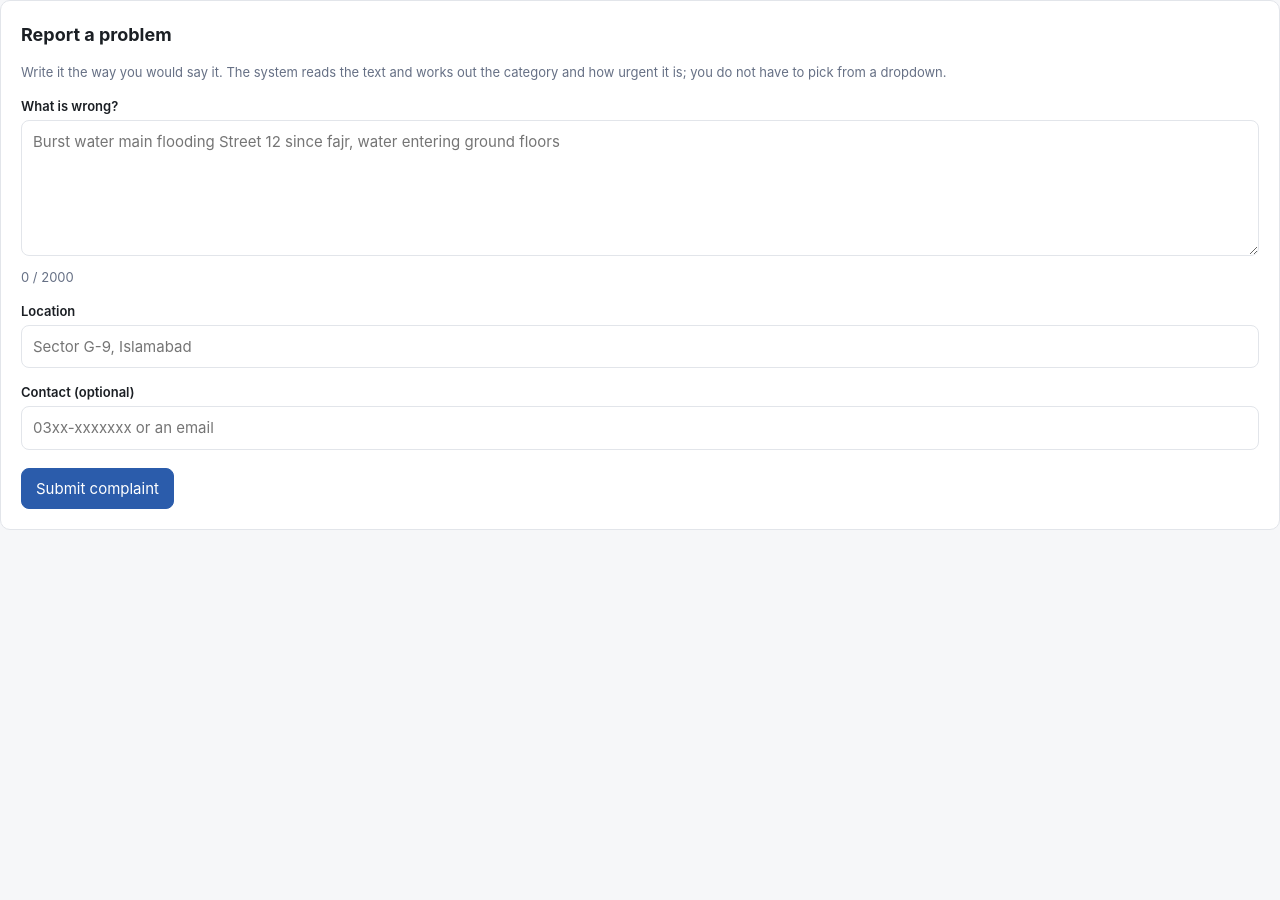
Scenario: SubmitView › surfaces the field-level errors from a 400 body one by one
Step 1. Type "Sewage backing up into the lane again" into the text box labelled "What is wrong?" → point(640, 188), box 21,120 -> 1259,256
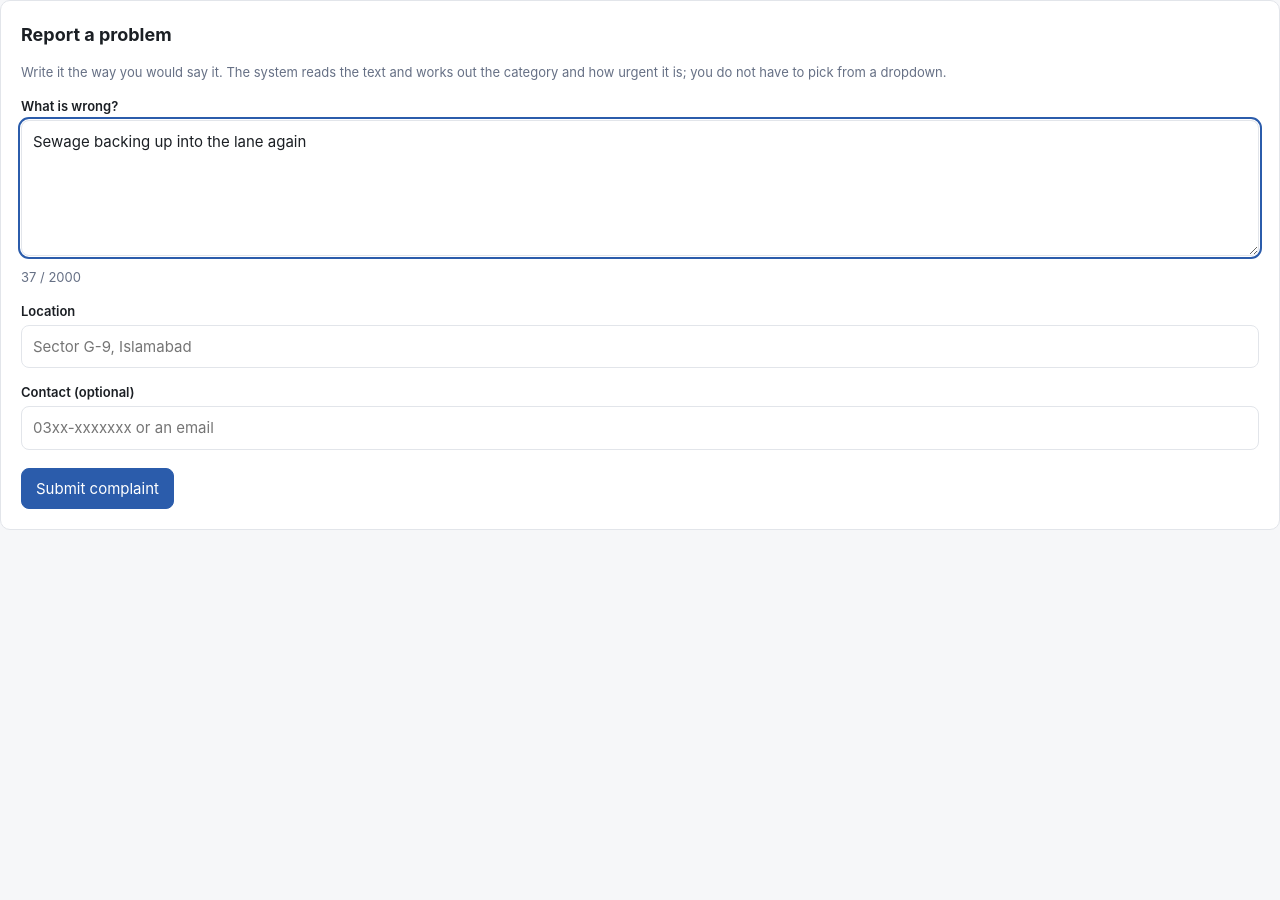
Step 2. Type "G-9" into the field labelled "Location" → point(640, 347), box 21,325 -> 1259,368
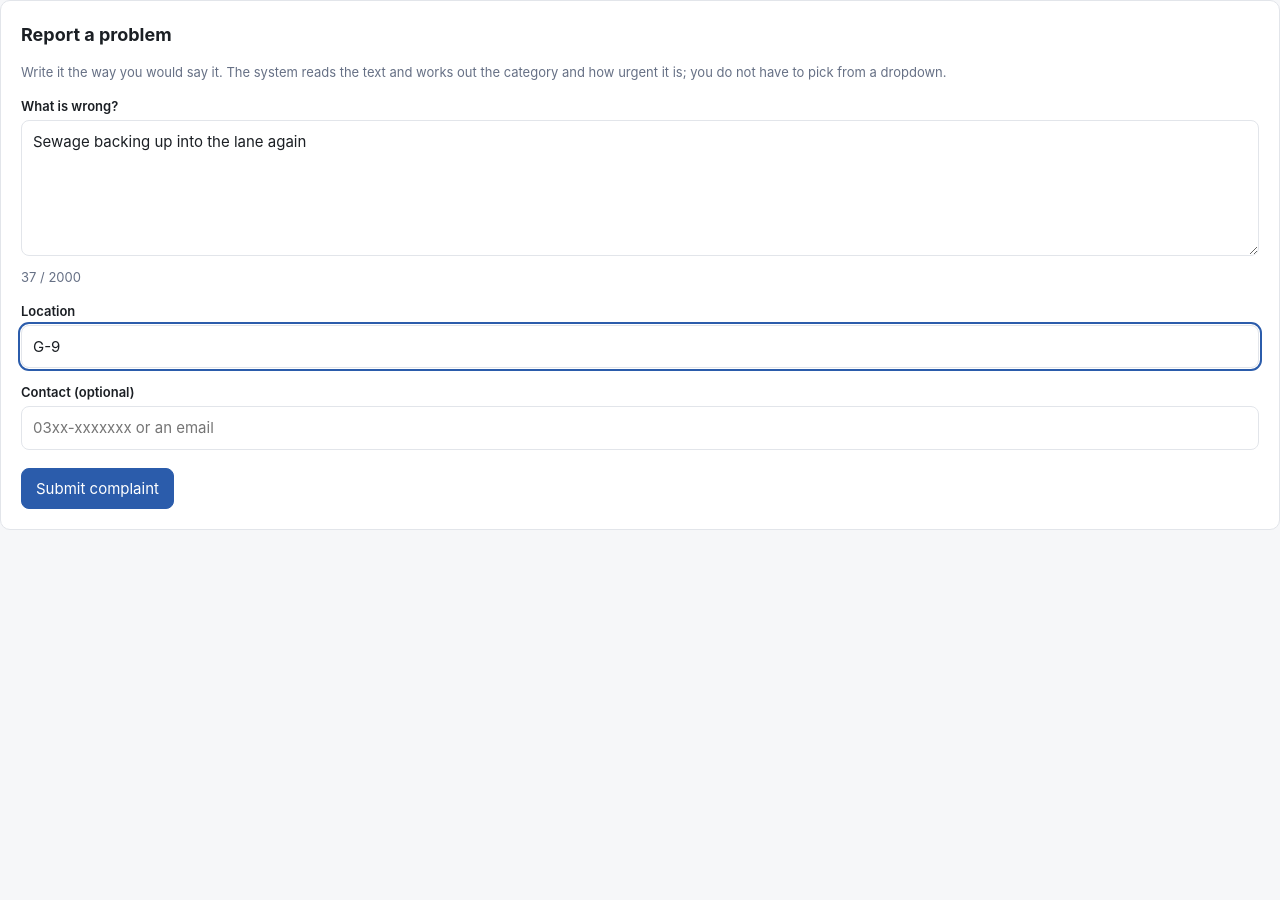
Step 3. Click the button "Submit complaint" → point(97, 488), box 21,468 -> 174,509
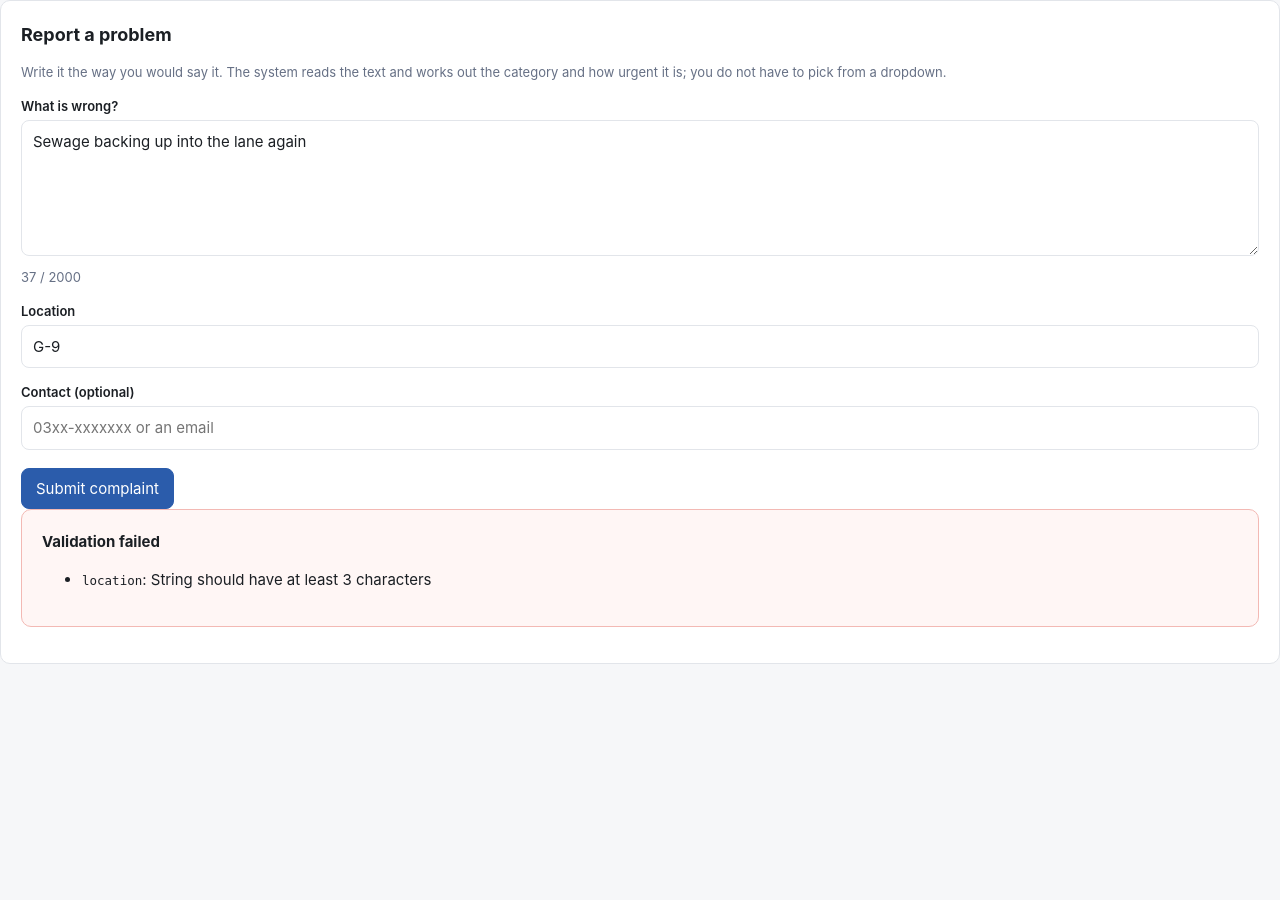
Expected: the message with test id "server-error" shows "location", 82,573 -> 142,588
Expected: the message with test id "server-error" shows "at least 3 characters", 151,570 -> 432,589
